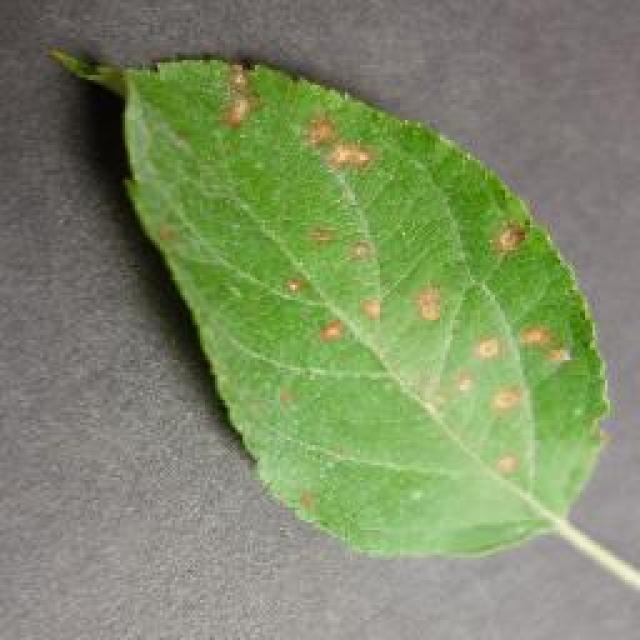apple scab disease: (48, 45, 612, 560)
